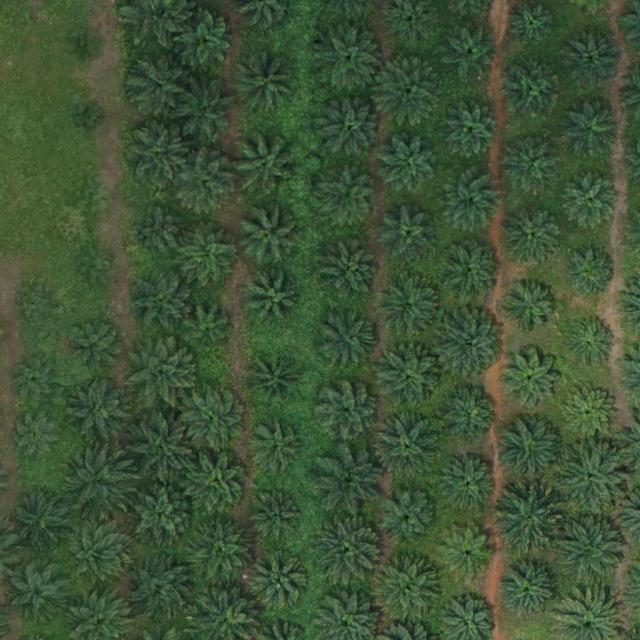Healthy: (376, 55, 447, 126), (317, 21, 388, 92), (7, 490, 78, 561), (374, 343, 445, 414), (497, 415, 568, 486), (492, 486, 563, 557), (128, 51, 198, 122), (127, 113, 198, 183), (5, 558, 75, 629), (62, 377, 132, 448), (62, 449, 132, 520), (128, 416, 198, 487), (126, 552, 196, 623), (191, 522, 261, 593), (316, 442, 386, 513), (315, 518, 386, 588), (374, 409, 444, 480), (437, 309, 507, 380), (496, 554, 567, 624), (559, 443, 629, 514), (557, 513, 627, 584), (438, 165, 508, 235), (317, 92, 387, 162), (128, 339, 198, 409), (372, 554, 442, 624), (560, 28, 623, 91), (560, 98, 623, 161), (439, 102, 502, 165), (175, 152, 238, 215), (132, 487, 195, 550), (244, 352, 307, 415), (379, 274, 442, 337), (377, 484, 440, 547), (501, 133, 563, 196), (502, 204, 564, 267), (379, 134, 441, 197), (319, 239, 381, 302), (238, 50, 300, 113), (240, 206, 303, 268), (177, 221, 239, 284), (133, 197, 195, 260), (5, 351, 67, 414), (67, 525, 130, 587), (133, 274, 195, 337), (188, 390, 250, 453), (187, 451, 249, 514), (249, 551, 311, 614), (317, 378, 379, 441), (438, 454, 500, 517), (499, 349, 561, 412), (319, 163, 381, 225), (238, 135, 300, 197), (322, 307, 384, 369), (438, 383, 500, 445), (564, 172, 619, 228), (444, 24, 499, 80), (505, 61, 560, 116), (444, 243, 499, 298), (182, 12, 237, 67), (179, 84, 234, 139), (68, 319, 123, 374), (252, 419, 307, 474), (250, 490, 305, 545), (503, 281, 558, 336), (563, 386, 618, 441), (382, 209, 436, 264), (441, 527, 495, 582), (563, 245, 617, 300)
Small: (564, 315, 619, 370), (253, 277, 300, 325), (187, 306, 234, 353), (15, 416, 55, 455), (18, 290, 57, 330), (77, 189, 108, 221), (83, 247, 114, 279), (73, 28, 104, 59), (75, 106, 106, 137)
